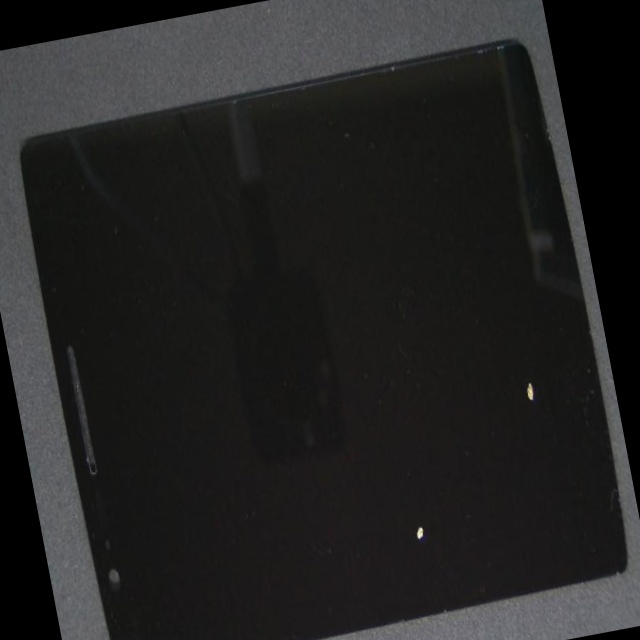stain: (200, 165, 640, 640), (186, 183, 623, 640)
